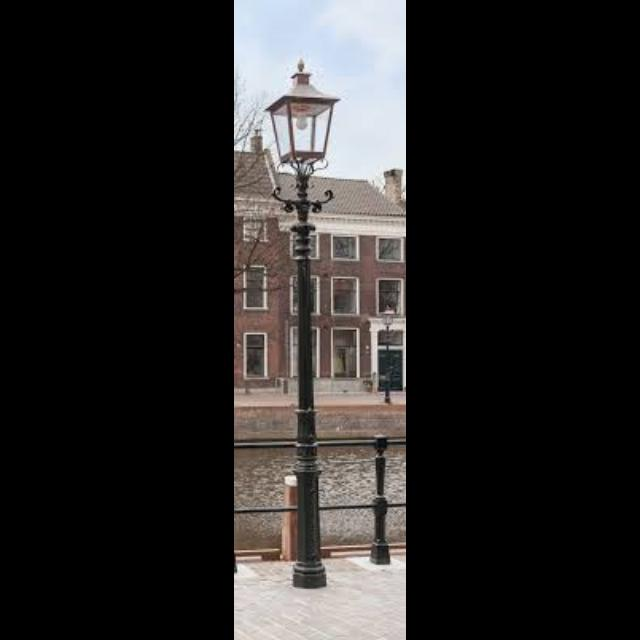Street-Lamp: (266, 58, 350, 590)
